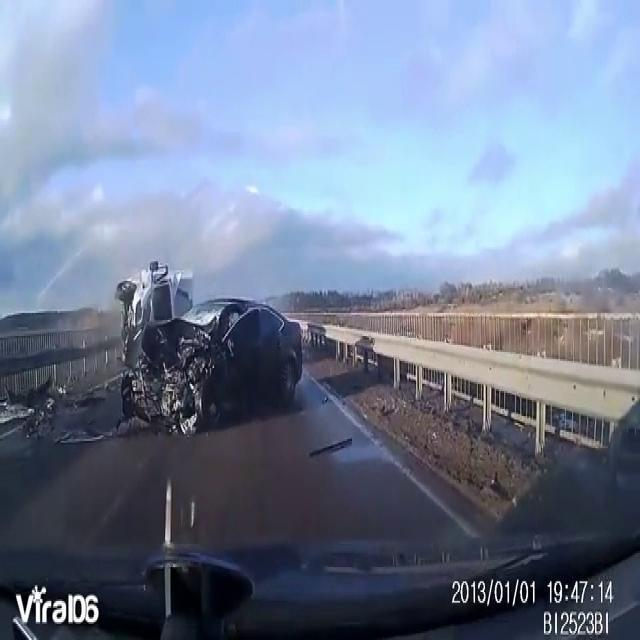severe: (115, 254, 308, 439)
